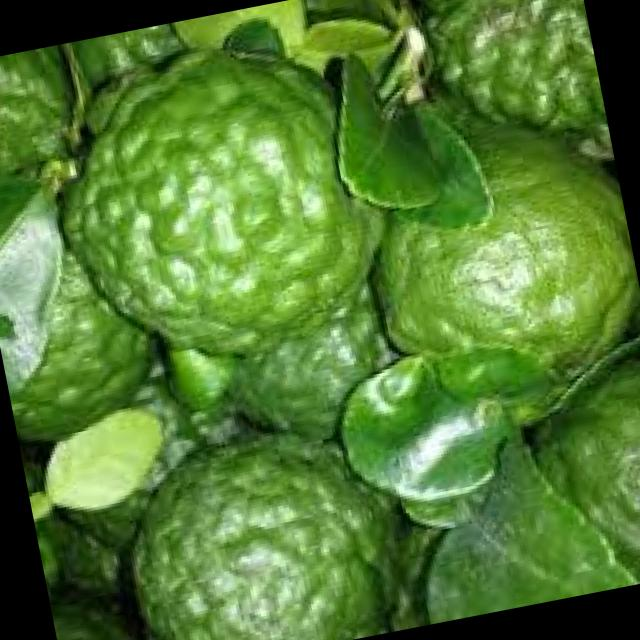Chuc: (34, 21, 407, 388), (340, 70, 640, 447), (109, 414, 421, 640), (406, 0, 615, 198), (516, 353, 640, 599), (0, 248, 151, 432), (0, 44, 100, 192)
